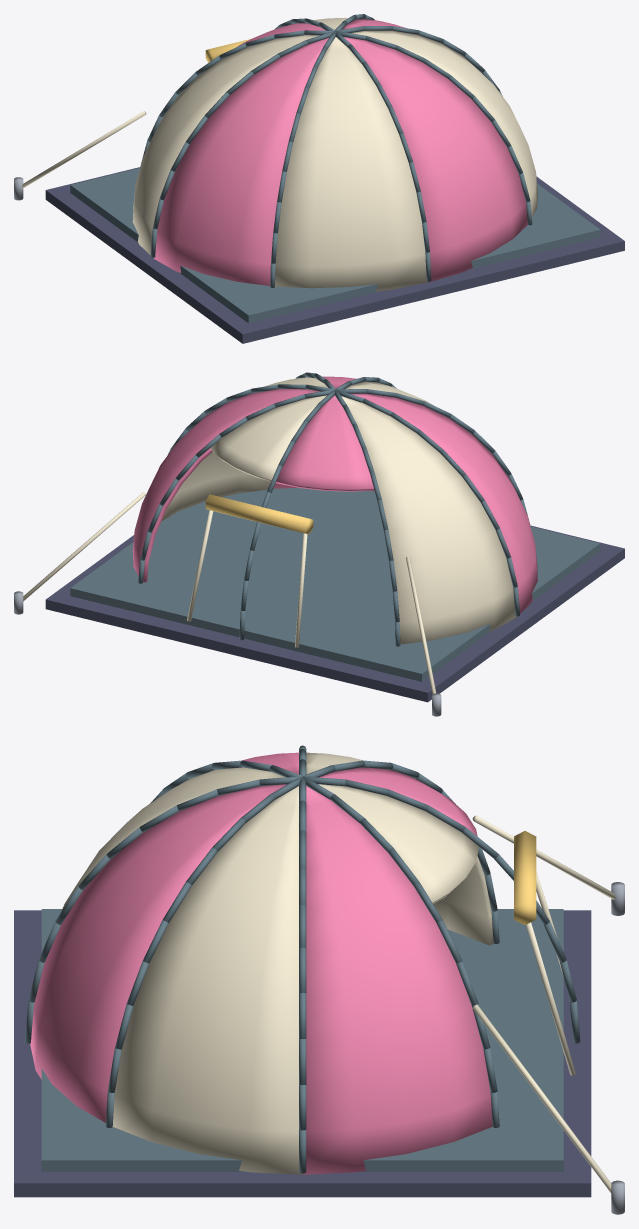
File: FestivalDomeTent.fbx
3 renders of one model, top to bottom at view 1: azimuth 30°, elevation 25°; view 2: azimuth 150°, elevation 25°; view 3: azimuth 270°, elevation 25°, orthographic. The views are drawn at different scales.
Visible parts, largest first — view 1: FestivalDomeTent CanvasRose__CanvasRose, FestivalDomeTent CanvasCream__CanvasCream, FestivalDomeTent CanvasDark__CanvasDark, FestivalDomeTent Dark__Dark, FestivalDomeTent Cream__Cream; view 2: FestivalDomeTent CanvasDark__CanvasDark, FestivalDomeTent CanvasCream__CanvasCream, FestivalDomeTent CanvasRose__CanvasRose, FestivalDomeTent Dark__Dark, FestivalDomeTent Cream__Cream, FestivalDomeTent CanvasGold__CanvasGold; view 3: FestivalDomeTent CanvasRose__CanvasRose, FestivalDomeTent CanvasCream__CanvasCream, FestivalDomeTent CanvasDark__CanvasDark, FestivalDomeTent Dark__Dark, FestivalDomeTent Cream__Cream, FestivalDomeTent CanvasGold__CanvasGold, FestivalDomeTent Metal__Metal.
Part boxes in pixels (x1=…): FestivalDomeTent CanvasRose__CanvasRose: x1=154, y1=19, x2=527, y2=285; FestivalDomeTent CanvasCream__CanvasCream: x1=132, y1=17, x2=537, y2=291; FestivalDomeTent CanvasDark__CanvasDark: x1=70, y1=14, x2=600, y2=323; FestivalDomeTent Dark__Dark: x1=45, y1=167, x2=624, y2=343; FestivalDomeTent Cream__Cream: x1=22, y1=111, x2=146, y2=188; FestivalDomeTent CanvasDark__CanvasDark: x1=70, y1=372, x2=600, y2=681; FestivalDomeTent CanvasCream__CanvasCream: x1=161, y1=377, x2=516, y2=644; FestivalDomeTent CanvasRose__CanvasRose: x1=132, y1=376, x2=537, y2=616; FestivalDomeTent Dark__Dark: x1=45, y1=525, x2=624, y2=702; FestivalDomeTent Cream__Cream: x1=23, y1=492, x2=436, y2=694; FestivalDomeTent CanvasGold__CanvasGold: x1=205, y1=494, x2=313, y2=534; FestivalDomeTent CanvasRose__CanvasRose: x1=30, y1=752, x2=492, y2=1174; FestivalDomeTent CanvasCream__CanvasCream: x1=61, y1=752, x2=493, y2=1174; FestivalDomeTent CanvasDark__CanvasDark: x1=25, y1=745, x2=580, y2=1173; FestivalDomeTent Dark__Dark: x1=14, y1=910, x2=591, y2=1197; FestivalDomeTent Cream__Cream: x1=472, y1=815, x2=615, y2=1193; FestivalDomeTent CanvasGold__CanvasGold: x1=514, y1=831, x2=536, y2=925; FestivalDomeTent Metal__Metal: x1=611, y1=882, x2=624, y2=1214.
Size of the model in its own units: 418 by 183 by 354.
